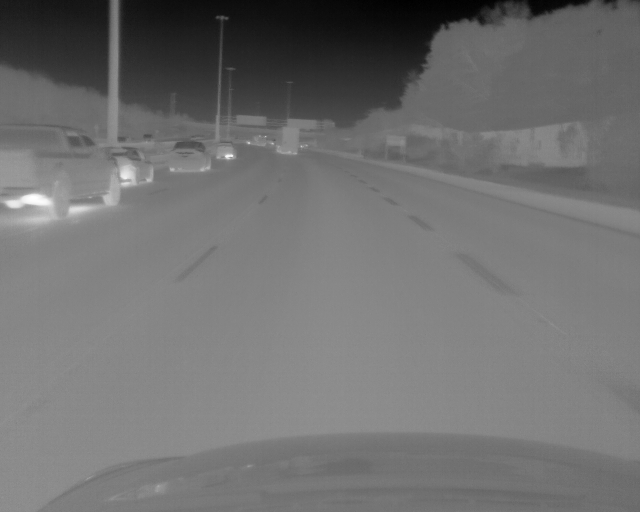car: (1, 121, 122, 219), (106, 145, 153, 184), (169, 140, 212, 172), (274, 126, 300, 155), (215, 141, 236, 158), (142, 134, 159, 142)
